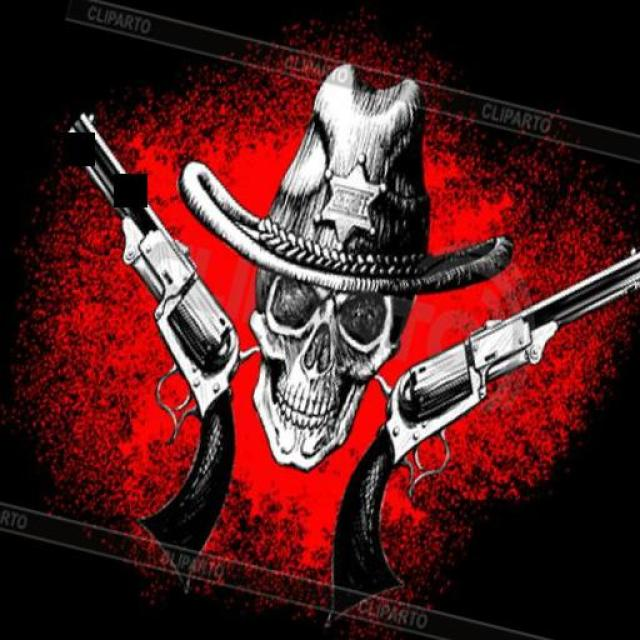gun: (310, 190, 640, 640), (0, 104, 306, 576)
